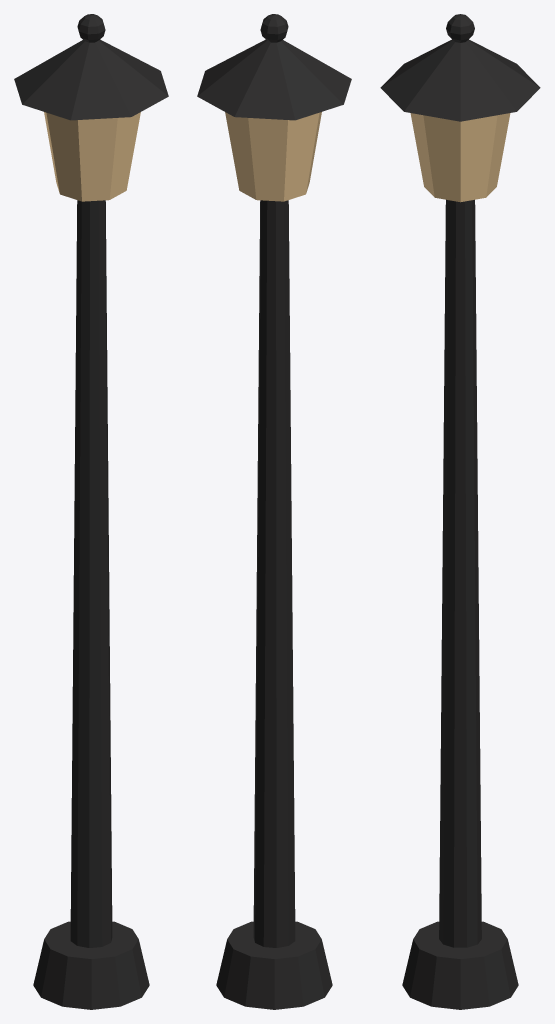
The model's file is lamp.glb.
3 views of the same model, side by side, from view 1: azimuth 30°, elevation 25°; view 2: azimuth 150°, elevation 25°; view 3: azimuth 270°, elevation 25° (orthographic).
Visible parts, largest first — view 1: iron0, iron3, iron1, glow_lamp2, iron4; view 2: iron0, iron3, iron1, glow_lamp2, iron4; view 3: iron0, iron3, iron1, glow_lamp2, iron4.
Boxes of the visible parts, x1,y1,x2,y2 form: iron0: (70, 200, 112, 947); iron3: (14, 39, 168, 120); iron1: (33, 921, 149, 1009); glow_lamp2: (44, 112, 140, 201); iron4: (77, 14, 105, 42); iron0: (253, 200, 295, 947); iron3: (197, 39, 351, 120); iron1: (216, 921, 332, 1009); glow_lamp2: (225, 112, 321, 201); iron4: (260, 14, 288, 42); iron0: (439, 199, 481, 947); iron3: (380, 39, 540, 121); iron1: (402, 921, 518, 1009); glow_lamp2: (410, 113, 510, 202); iron4: (446, 14, 474, 42).
Bounding box in the file's own units: 0.44 × 2.94 × 0.44.
